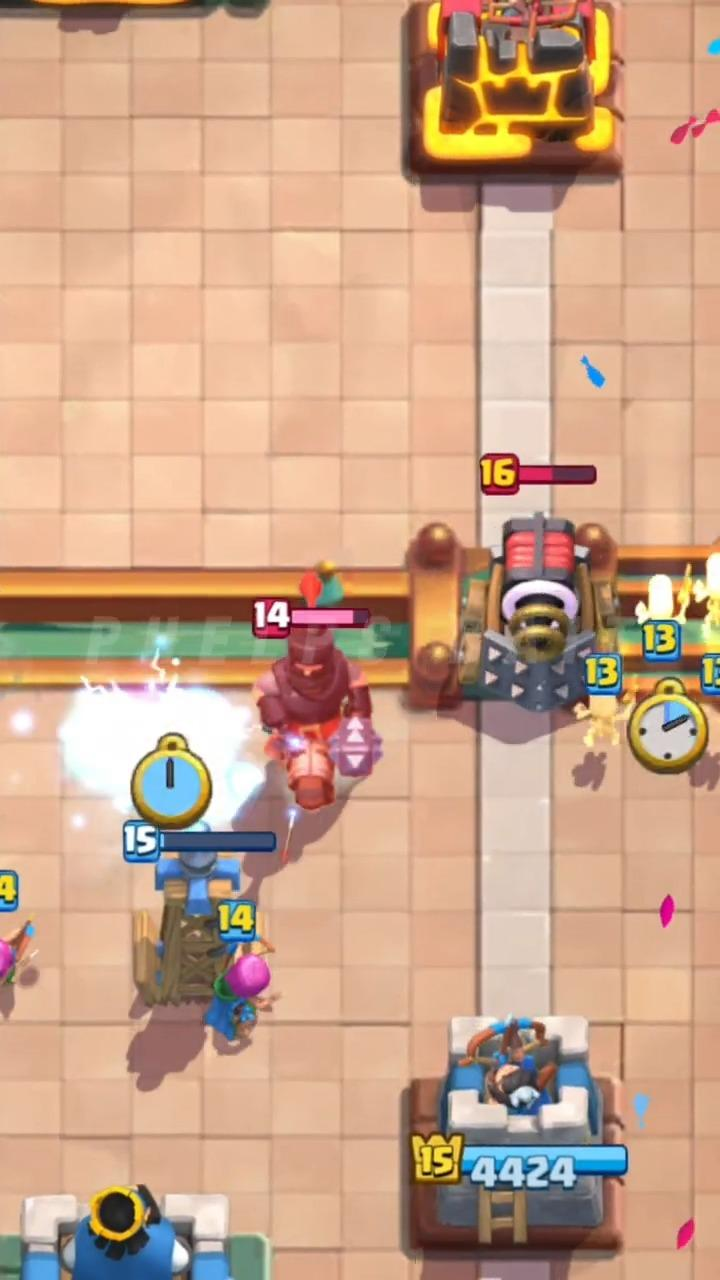archer: (205, 940, 274, 1043), (0, 939, 15, 983)
dark prince: (255, 627, 373, 812)
skeletons: (635, 552, 719, 625)
sparky: (455, 512, 615, 713)
tesla: (134, 828, 247, 1005)
